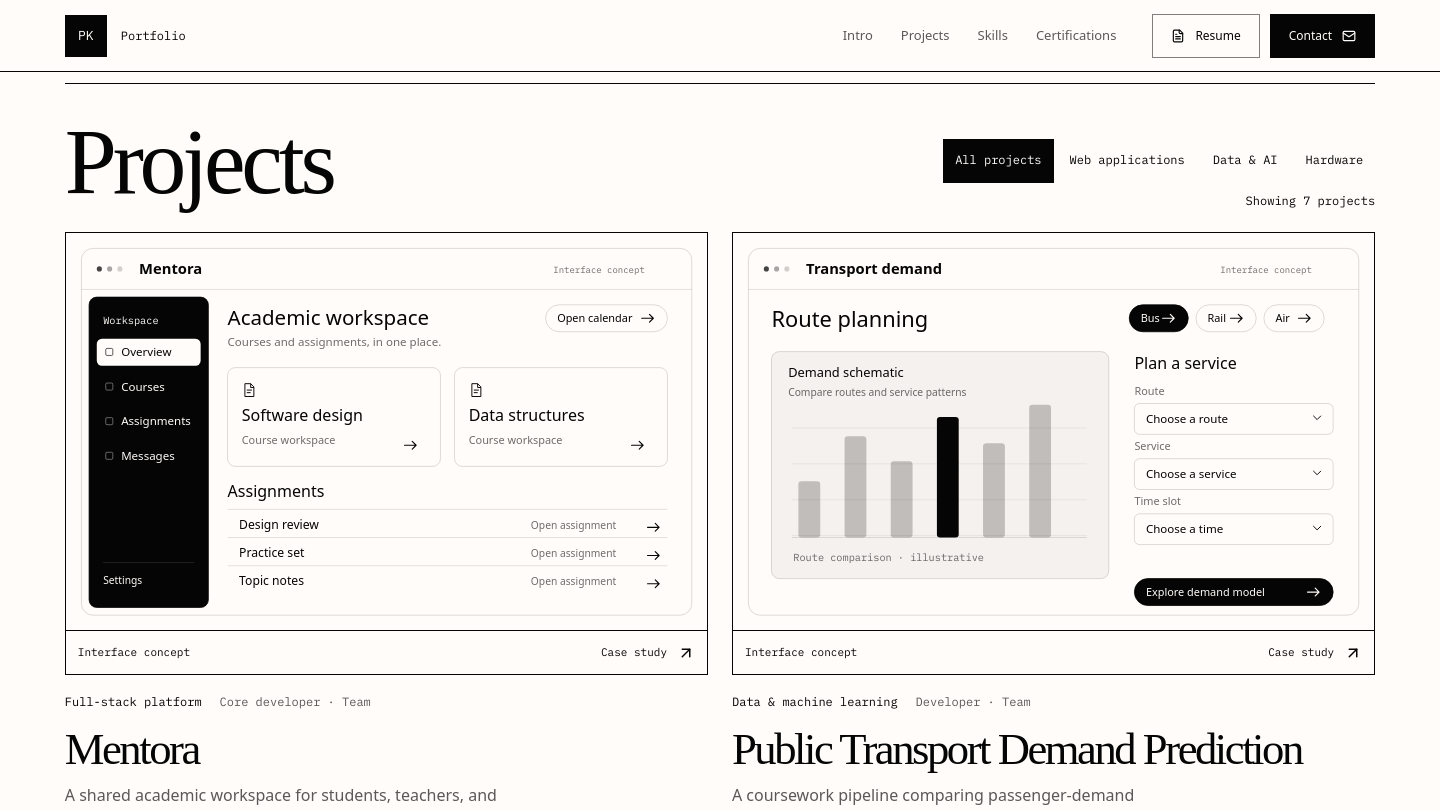
Test case: portfolio experience › opens and closes an accessible project detail dialog
(page scrolled)
Step 1. Click the button with aria-label "View Mentora case study" → (386, 453), box x1=65 y1=232 x2=708 y2=675
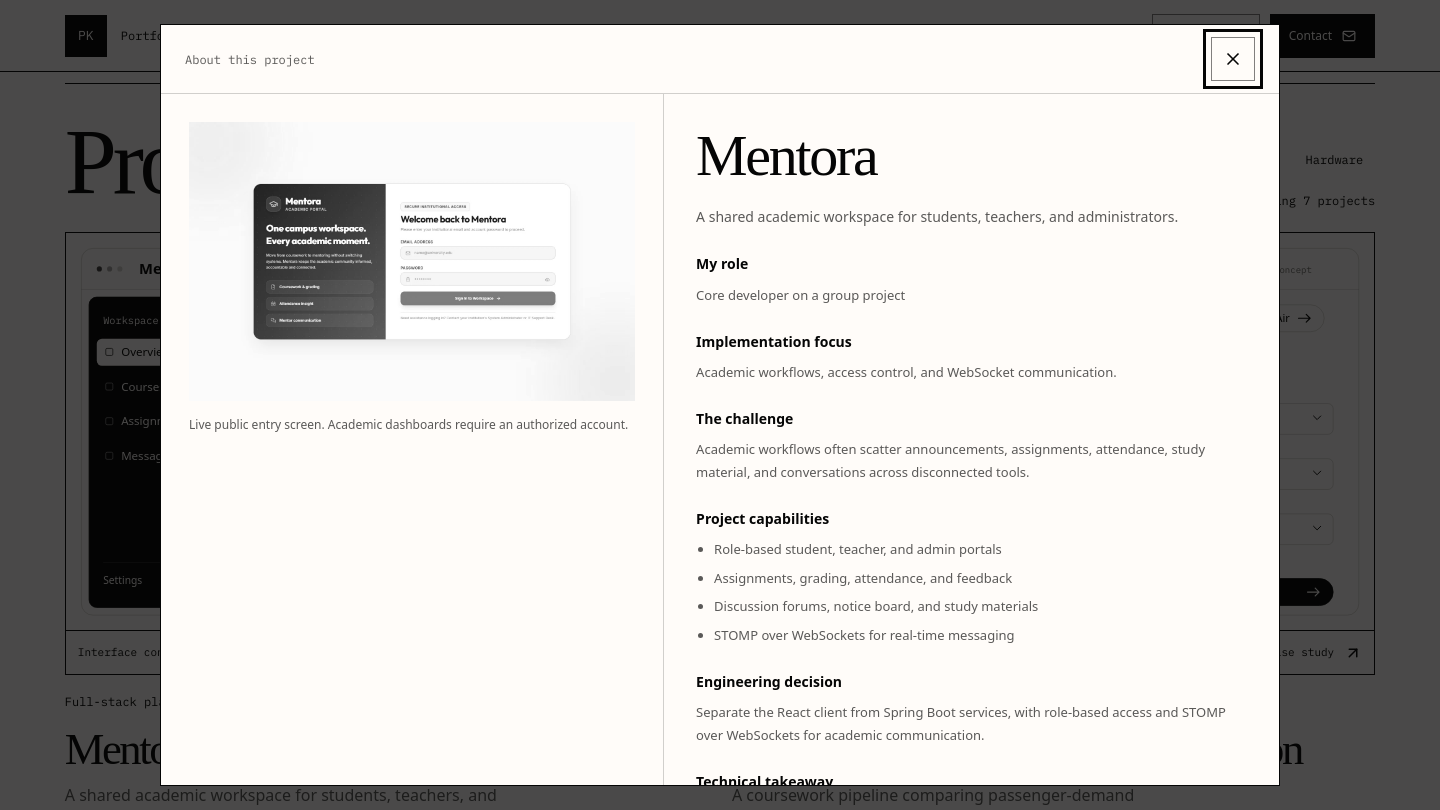
Result: the dialog is shown
Result: the heading "Mentora" is shown at x1=696 y1=123 x2=876 y2=188
Step 2. Press Escape
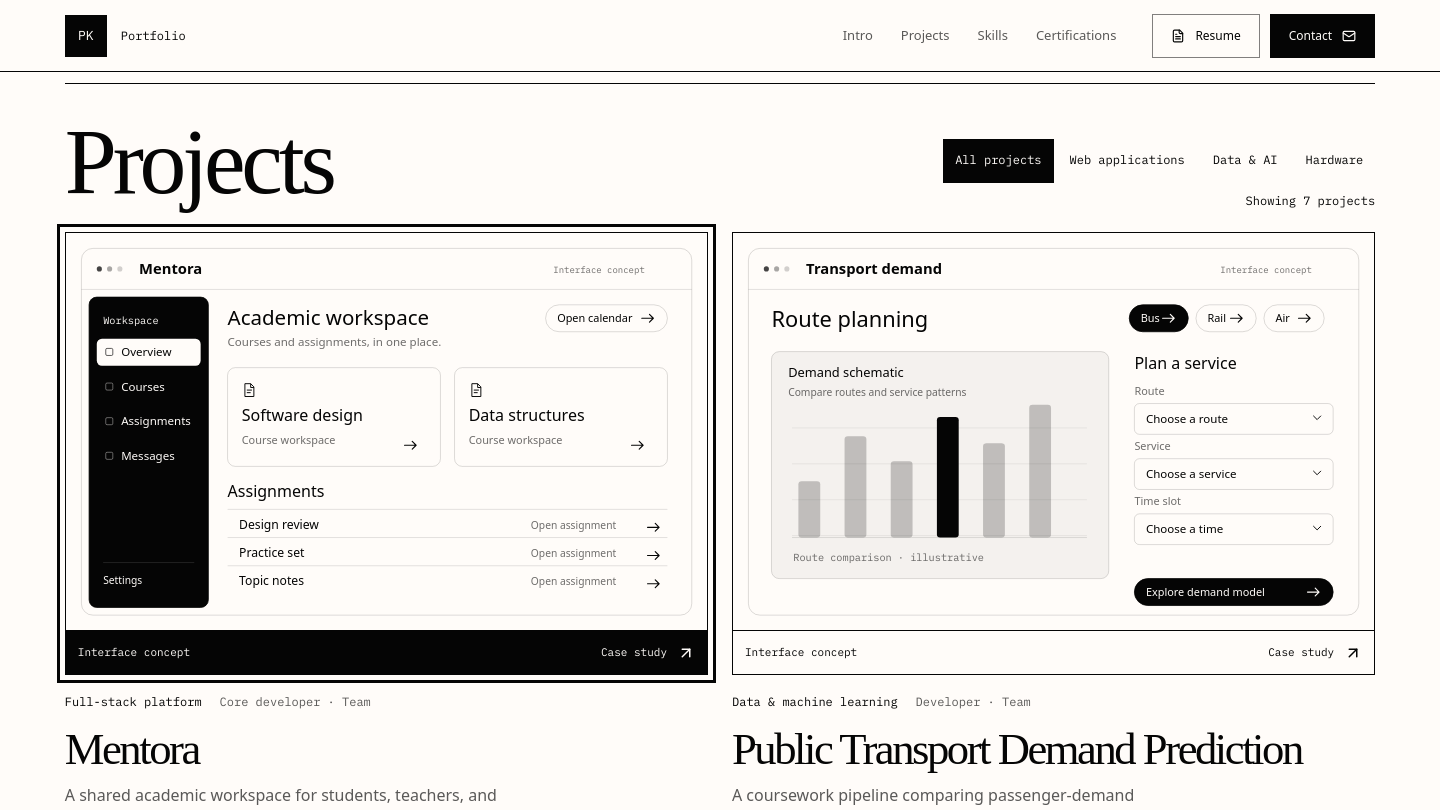
Result: the dialog is gone
